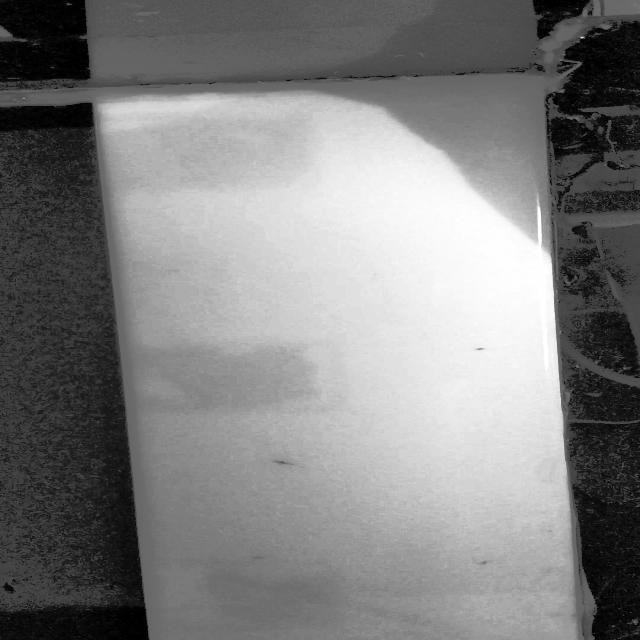shrimp: (256, 453, 313, 476)
